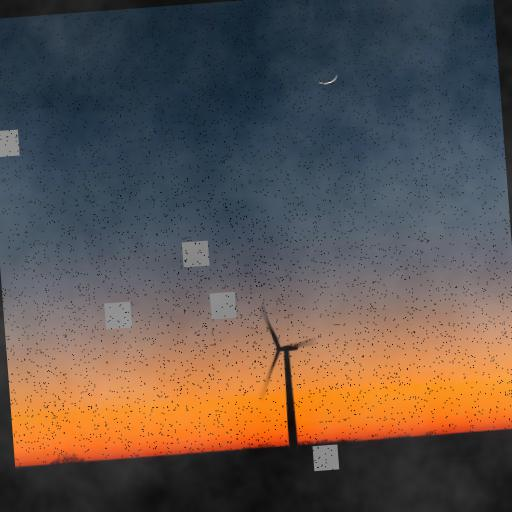wind turbine: (257, 305, 319, 446)
